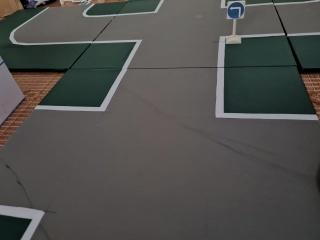left: (223, 0, 249, 22)
